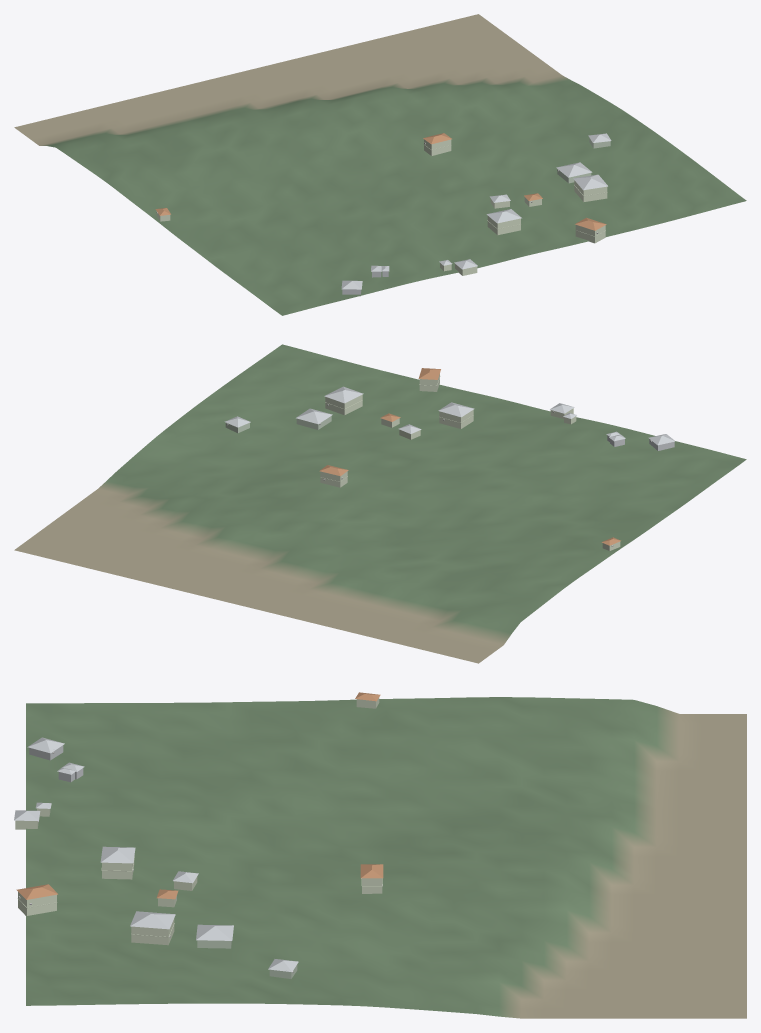
The picture shows the model from 3 angles, top to bottom: view 1: azimuth 30°, elevation 25°; view 2: azimuth 150°, elevation 25°; view 3: azimuth 270°, elevation 25°; orthographic projection. The views are drawn at different scales.
Parts seen in each view (by area): view 1: Terrain-col, Buildings-col; view 2: Terrain-col, Buildings-col; view 3: Terrain-col, Buildings-col.
Boxes of the visible parts, x1=… form: Terrain-col: x1=14, y1=14, x2=746, y2=315; Buildings-col: x1=155, y1=133, x2=611, y2=296; Terrain-col: x1=14, y1=344, x2=746, y2=663; Buildings-col: x1=224, y1=368, x2=675, y2=550; Terrain-col: x1=26, y1=697, x2=746, y2=1018; Buildings-col: x1=14, y1=692, x2=383, y2=978.
Size of the model in its own units: 256 by 12.98 by 260.
